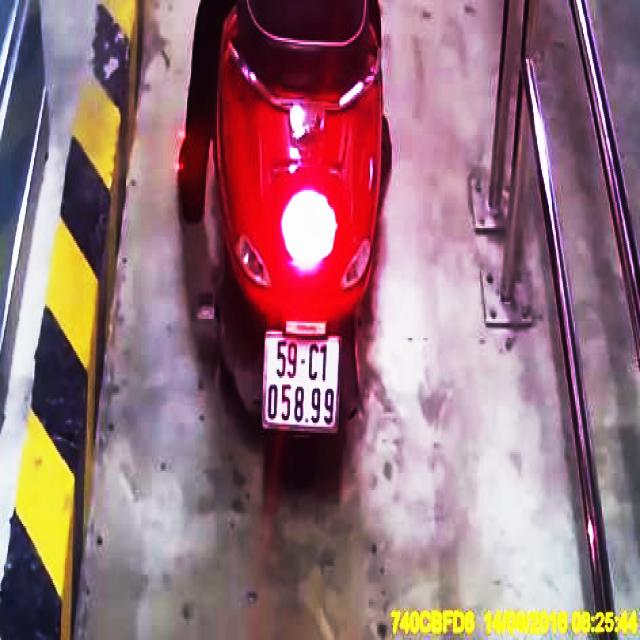license_plate: (265, 336, 341, 432)
